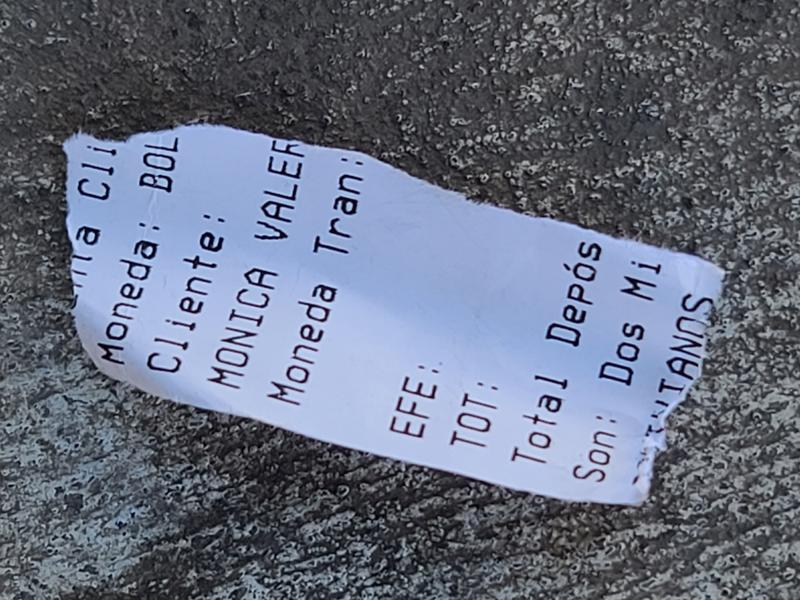papel: (61, 124, 726, 509)
